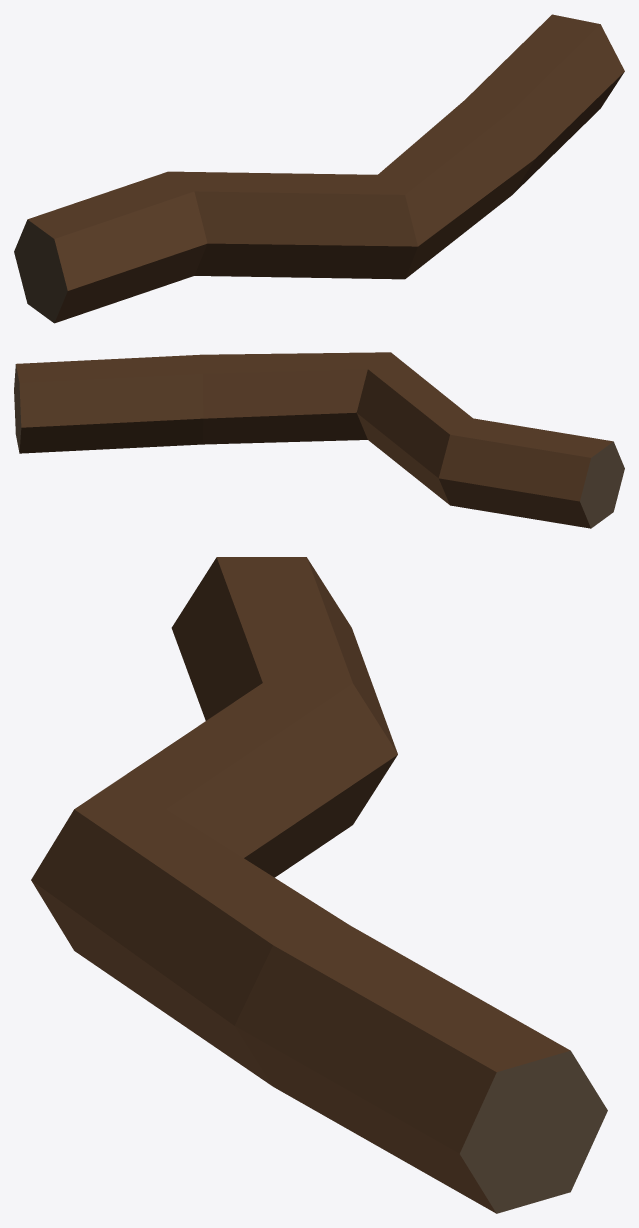
File: Log_3_MY.fbx
3 renders of one model, top to bottom at view 1: azimuth 30°, elevation 25°; view 2: azimuth 150°, elevation 25°; view 3: azimuth 270°, elevation 25°, orthographic. The views are drawn at different scales.
Visible parts, largest first — view 1: Cylinder; view 2: Cylinder; view 3: Cylinder.
Boxes of the visible parts, x1=… form: Cylinder: x1=14, y1=14, x2=624, y2=323; Cylinder: x1=14, y1=352, x2=624, y2=528; Cylinder: x1=31, y1=557, x2=607, y2=1213.
Bounding box in the file's own units: 92.81 × 11.65 × 43.02.
